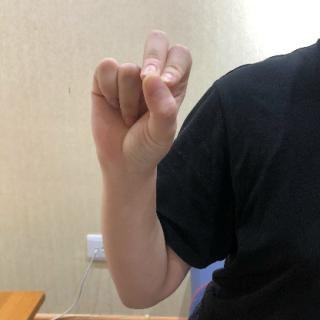QAAF: (89, 25, 195, 186)
